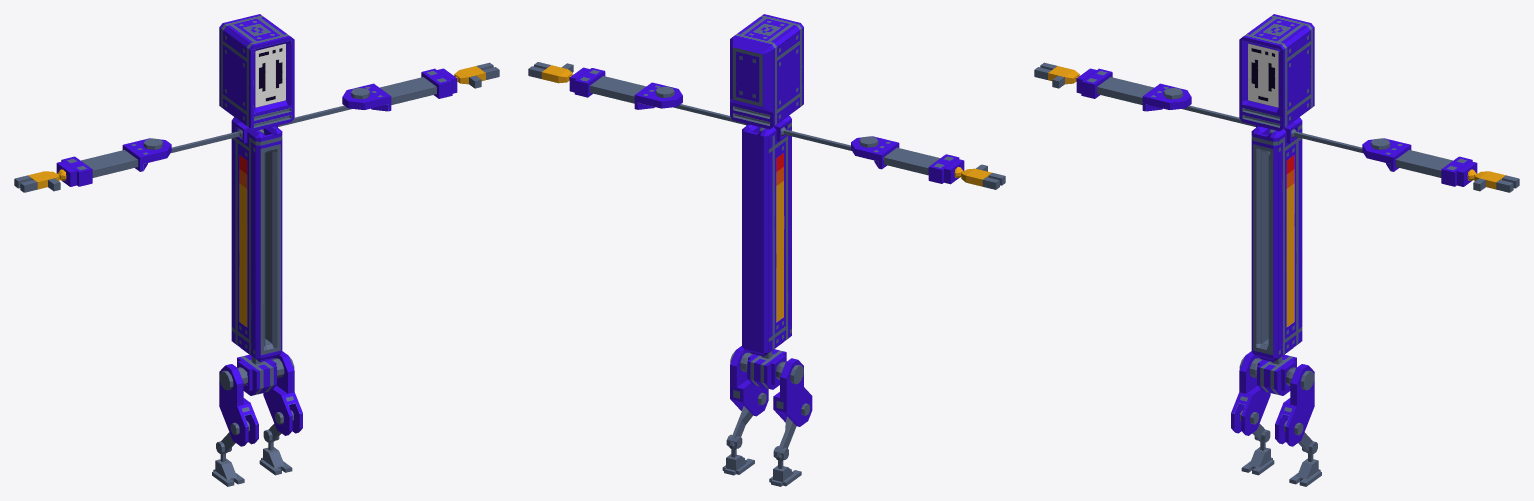
Rendered from BLOK_BOT_ANIMATION.obj.
The picture shows the model from 3 angles, left to right: view 1: azimuth 30°, elevation 25°; view 2: azimuth 150°, elevation 25°; view 3: azimuth 330°, elevation 25°; orthographic projection.
Parts seen in each view (by area): view 1: BLOK_BOT_MESH; view 2: BLOK_BOT_MESH; view 3: BLOK_BOT_MESH.
Part boxes in pixels (<box>): BLOK_BOT_MESH: <box>14,14,499,486</box>; BLOK_BOT_MESH: <box>528,14,1005,486</box>; BLOK_BOT_MESH: <box>1034,14,1519,486</box>.
Size of the model in its own units: 8.75 by 7.86 by 1.17.
